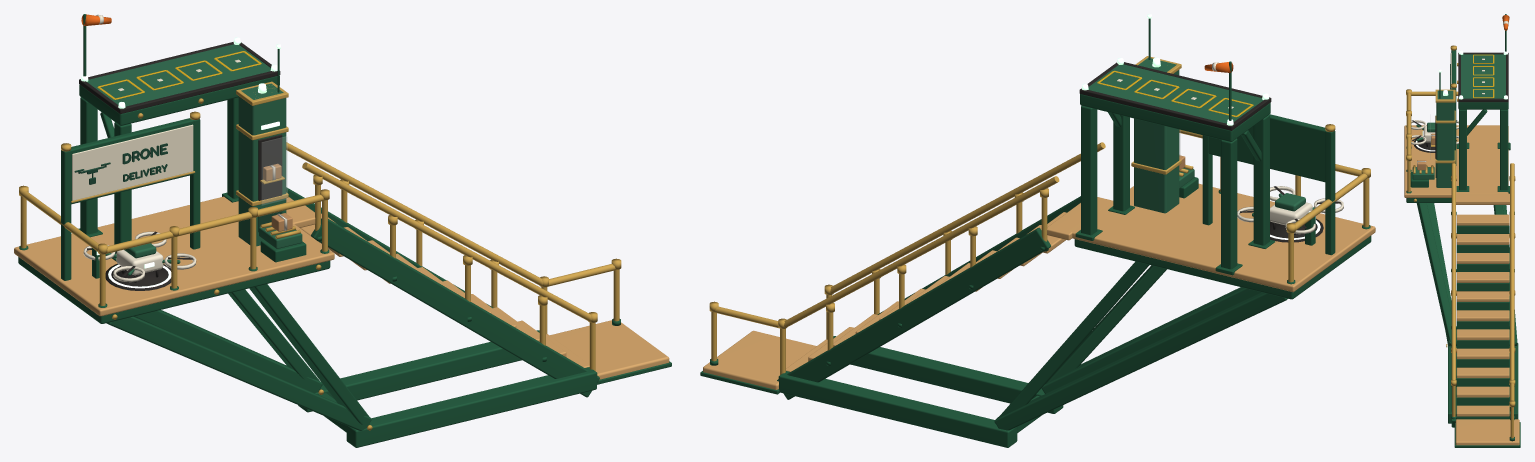
The model's file is online_deck.glb.
3 views of the same model, side by side, from view 1: azimuth 30°, elevation 25°; view 2: azimuth 150°, elevation 25°; view 3: azimuth 270°, elevation 25° (orthographic). The views are drawn at different scales.
Visible parts, largest first — view 1: DeckBoards, Stringer-0.03, FloorBeam-0.03, SignFace, PadTop, Diag-0.03, FloorBeam0.61, LiftTower, FootLanding, Diag0.61, Diag2-0.03, DeckFrame (+19 smaller); view 2: DeckBoards, Stringer0.61, FloorBeam0.61, Diag0.61, PadTop, FloorBeam-0.03, LiftTower, SignBoard, FootLanding, Diag-0.03, Diag20.61, DeckFrame (+13 smaller); view 3: DeckBoards, PadTop, FootLanding, LiftTower, Diag2-0.03, StairRail0.61, StairRail-0.03, PadPost0.770.52, PadPost0.770.07, Tread5, Tread6, Tread0 (+40 smaller).
Boxes of the visible parts, left/top/right/bottom form: DeckBoards: left=14, top=196, right=334, bottom=316; Stringer-0.03: left=311, top=218, right=599, bottom=397; FloorBeam-0.03: left=346, top=367, right=596, bottom=447; SignFace: left=72, top=124, right=193, bottom=200; PadTop: left=87, top=44, right=270, bottom=106; Diag-0.03: left=106, top=316, right=371, bottom=430; FloorBeam0.61: left=298, top=330, right=539, bottom=412; LiftTower: left=238, top=83, right=286, bottom=246; FootLanding: left=550, top=320, right=669, bottom=379; Diag0.61: left=134, top=310, right=322, bottom=392; Diag2-0.03: left=249, top=284, right=369, bottom=424; DeckFrame: left=18, top=257, right=330, bottom=323; DeckBoards: left=1072, top=183, right=1375, bottom=292; Stringer0.61: left=777, top=227, right=1050, bottom=399; FloorBeam0.61: left=779, top=371, right=1017, bottom=447; Diag0.61: left=994, top=292, right=1287, bottom=430; PadTop: left=1088, top=64, right=1263, bottom=123; FloorBeam-0.03: left=833, top=336, right=1063, bottom=413; LiftTower: left=1134, top=57, right=1179, bottom=213; SignBoard: left=1208, top=114, right=1325, bottom=182; FootLanding: left=703, top=330, right=816, bottom=389; Diag-0.03: left=1041, top=287, right=1261, bottom=393; Diag20.61: left=994, top=261, right=1149, bottom=423; DeckFrame: left=1074, top=236, right=1371, bottom=299; DeckBoards: left=1404, top=125, right=1508, bottom=197; PadTop: left=1461, top=54, right=1505, bottom=98; FootLanding: left=1455, top=419, right=1519, bottom=445; LiftTower: left=1436, top=90, right=1454, bottom=187; Diag2-0.03: left=1416, top=203, right=1456, bottom=346; StairRail0.61: left=1510, top=163, right=1514, bottom=379; StairRail-0.03: left=1451, top=163, right=1455, bottom=379; PadPost0.770.52: left=1500, top=109, right=1508, bottom=190; PadPost0.770.07: left=1459, top=109, right=1466, bottom=190; Tread5: left=1456, top=310, right=1509, bottom=321; Tread6: left=1456, top=329, right=1509, bottom=340; Tread0: left=1456, top=214, right=1509, bottom=225.
Bounding box in the file's own units: 4.67 × 3.36 × 1.27.
